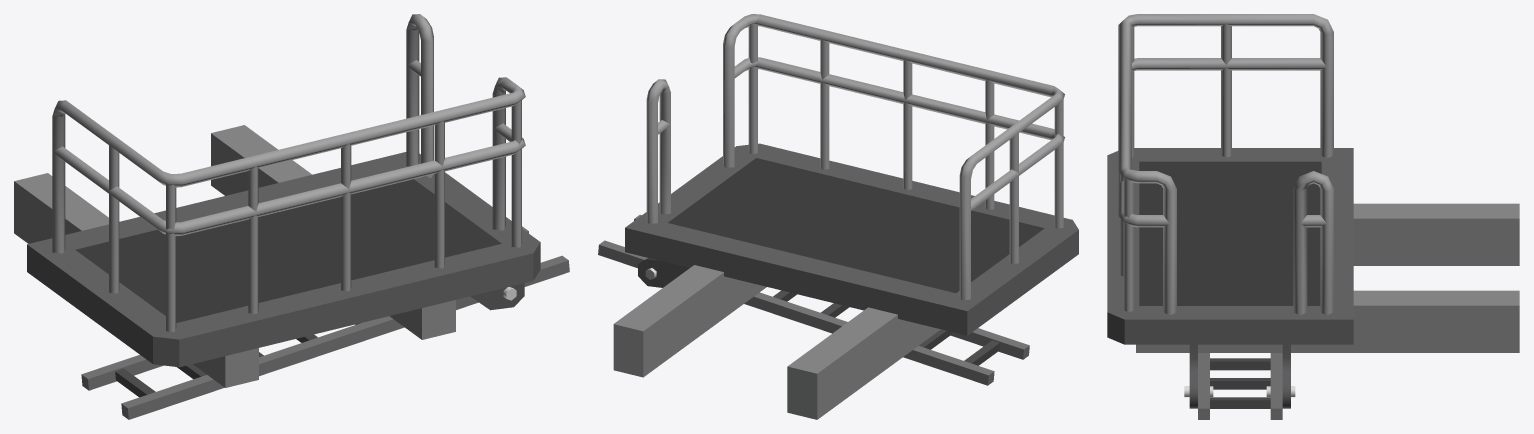
Rendered from arctic_base_platform_001.fbx.
The picture shows the model from 3 angles, left to right: view 1: azimuth 30°, elevation 25°; view 2: azimuth 150°, elevation 25°; view 3: azimuth 270°, elevation 25°; orthographic projection. The views are drawn at different scales.
Visible parts, largest first — view 1: arctic_base_platform_001; view 2: arctic_base_platform_001; view 3: arctic_base_platform_001.
Part boxes in pixels (<box>): arctic_base_platform_001: <box>14,14,569,419</box>; arctic_base_platform_001: <box>598,14,1078,419</box>; arctic_base_platform_001: <box>1107,14,1519,419</box>.
Bounding box in the file's own units: 408 × 351 × 232.
